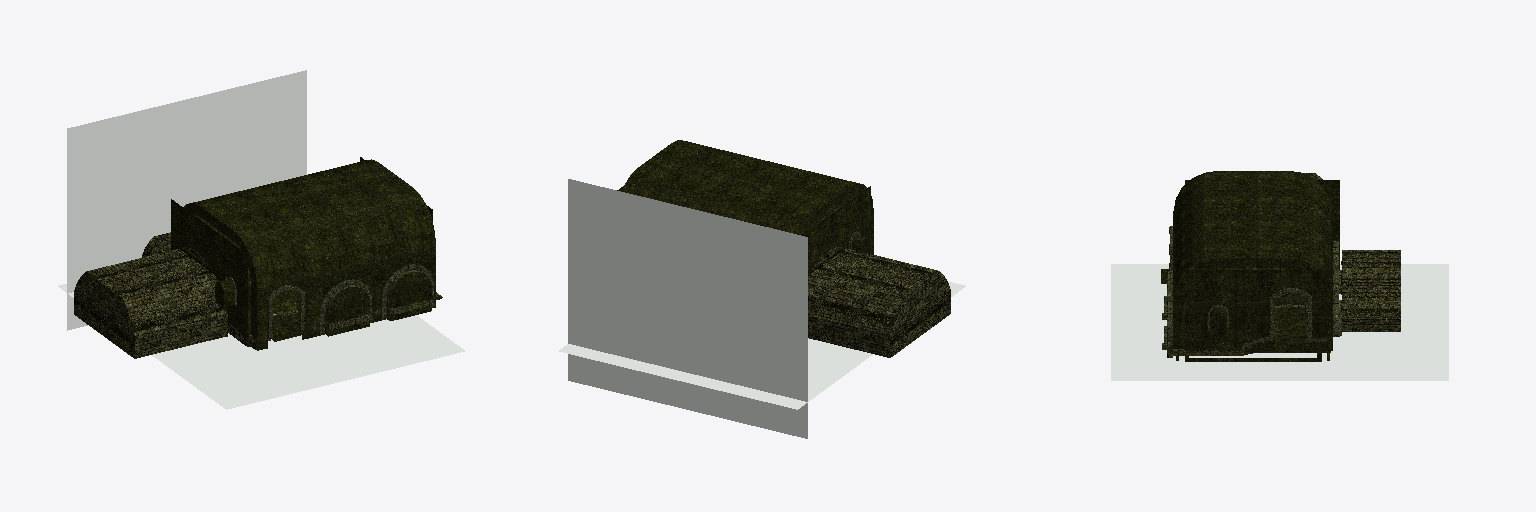
3 views of the same model, side by side, from view 1: azimuth 30°, elevation 25°; view 2: azimuth 150°, elevation 25°; view 3: azimuth 270°, elevation 25° (orthographic).
Parts seen in each view (by area): view 1: mesh0, mesh9, mesh3, mesh5, mesh4; view 2: mesh0, mesh9, mesh3, mesh4; view 3: mesh9, mesh0, mesh3, mesh5, mesh4, mesh7, mesh10.
Part boxes in pixels (x1,y1,x2,y2): mesh0: (58,70,464,409); mesh9: (171,157,435,350); mesh3: (74,232,227,358); mesh5: (225,264,439,343); mesh4: (183,203,298,349); mesh0: (559,179,965,438); mesh9: (617,140,870,276); mesh3: (808,247,950,357); mesh4: (801,184,873,254); mesh9: (1173,171,1339,352); mesh0: (1111,264,1448,380); mesh3: (1304,173,1400,331); mesh5: (1162,226,1344,357); mesh4: (1173,258,1332,351); mesh7: (1161,269,1329,361); mesh10: (1167,308,1332,352).
Size of the model in its own units: 15.66 by 9.94 by 15.09.
Materials: 11 (8 with a texture image).